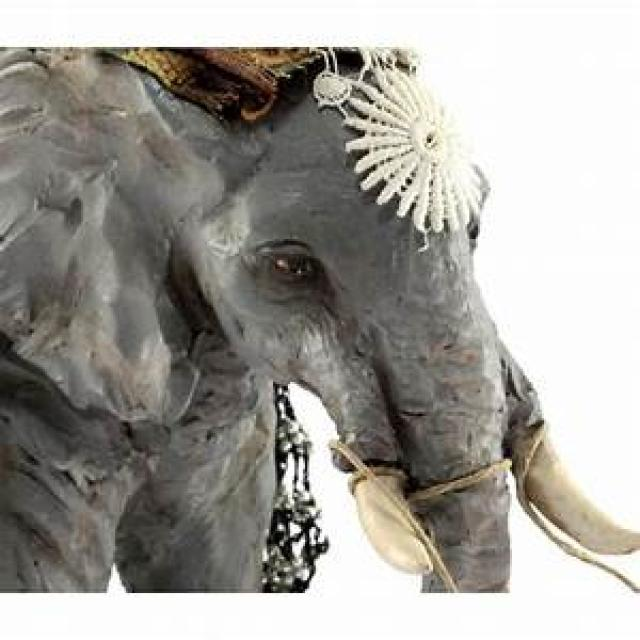elephant: (0, 47, 640, 595)
